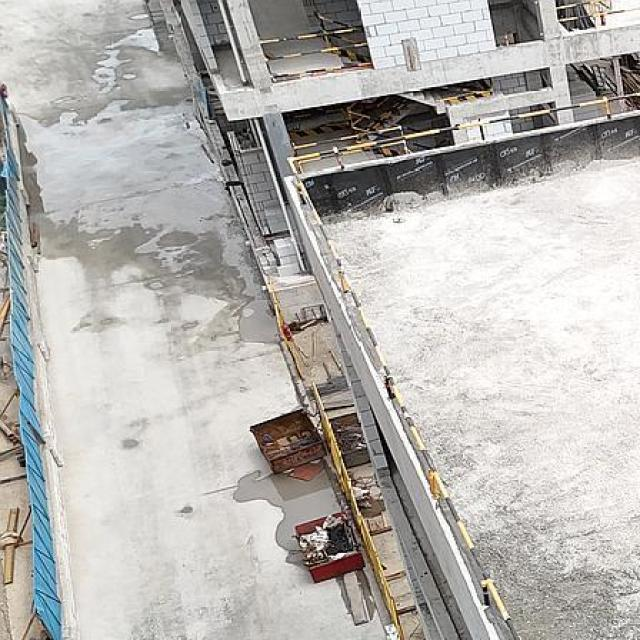edge_guardrail: (284, 92, 640, 639), (260, 26, 373, 80), (293, 126, 408, 176), (556, 0, 626, 30), (504, 34, 509, 46)
